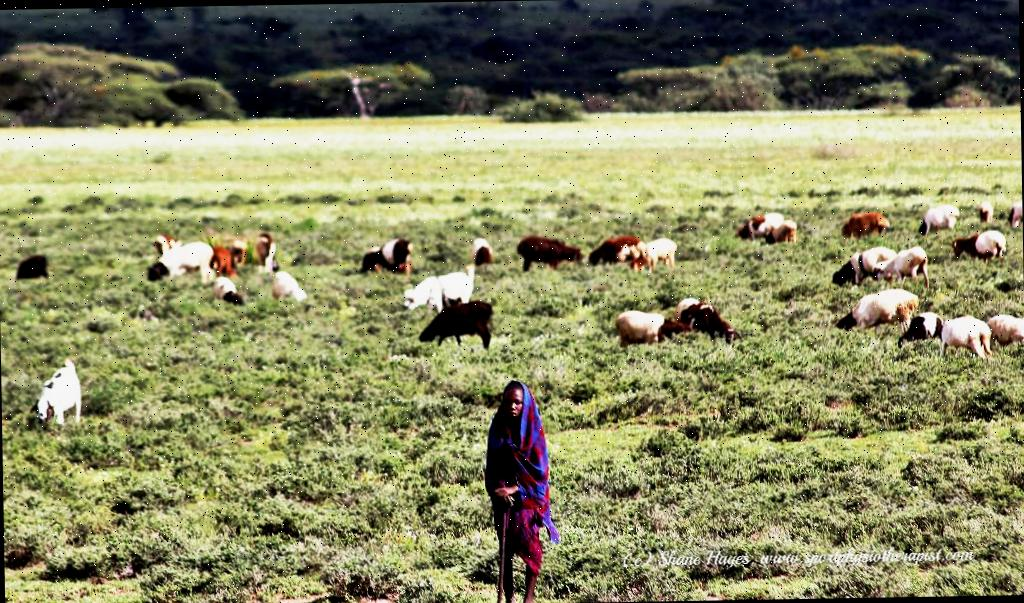Sheep: (29, 353, 94, 430), (934, 312, 993, 364), (860, 284, 923, 330), (984, 308, 1024, 348), (208, 271, 246, 308), (269, 270, 309, 304)
